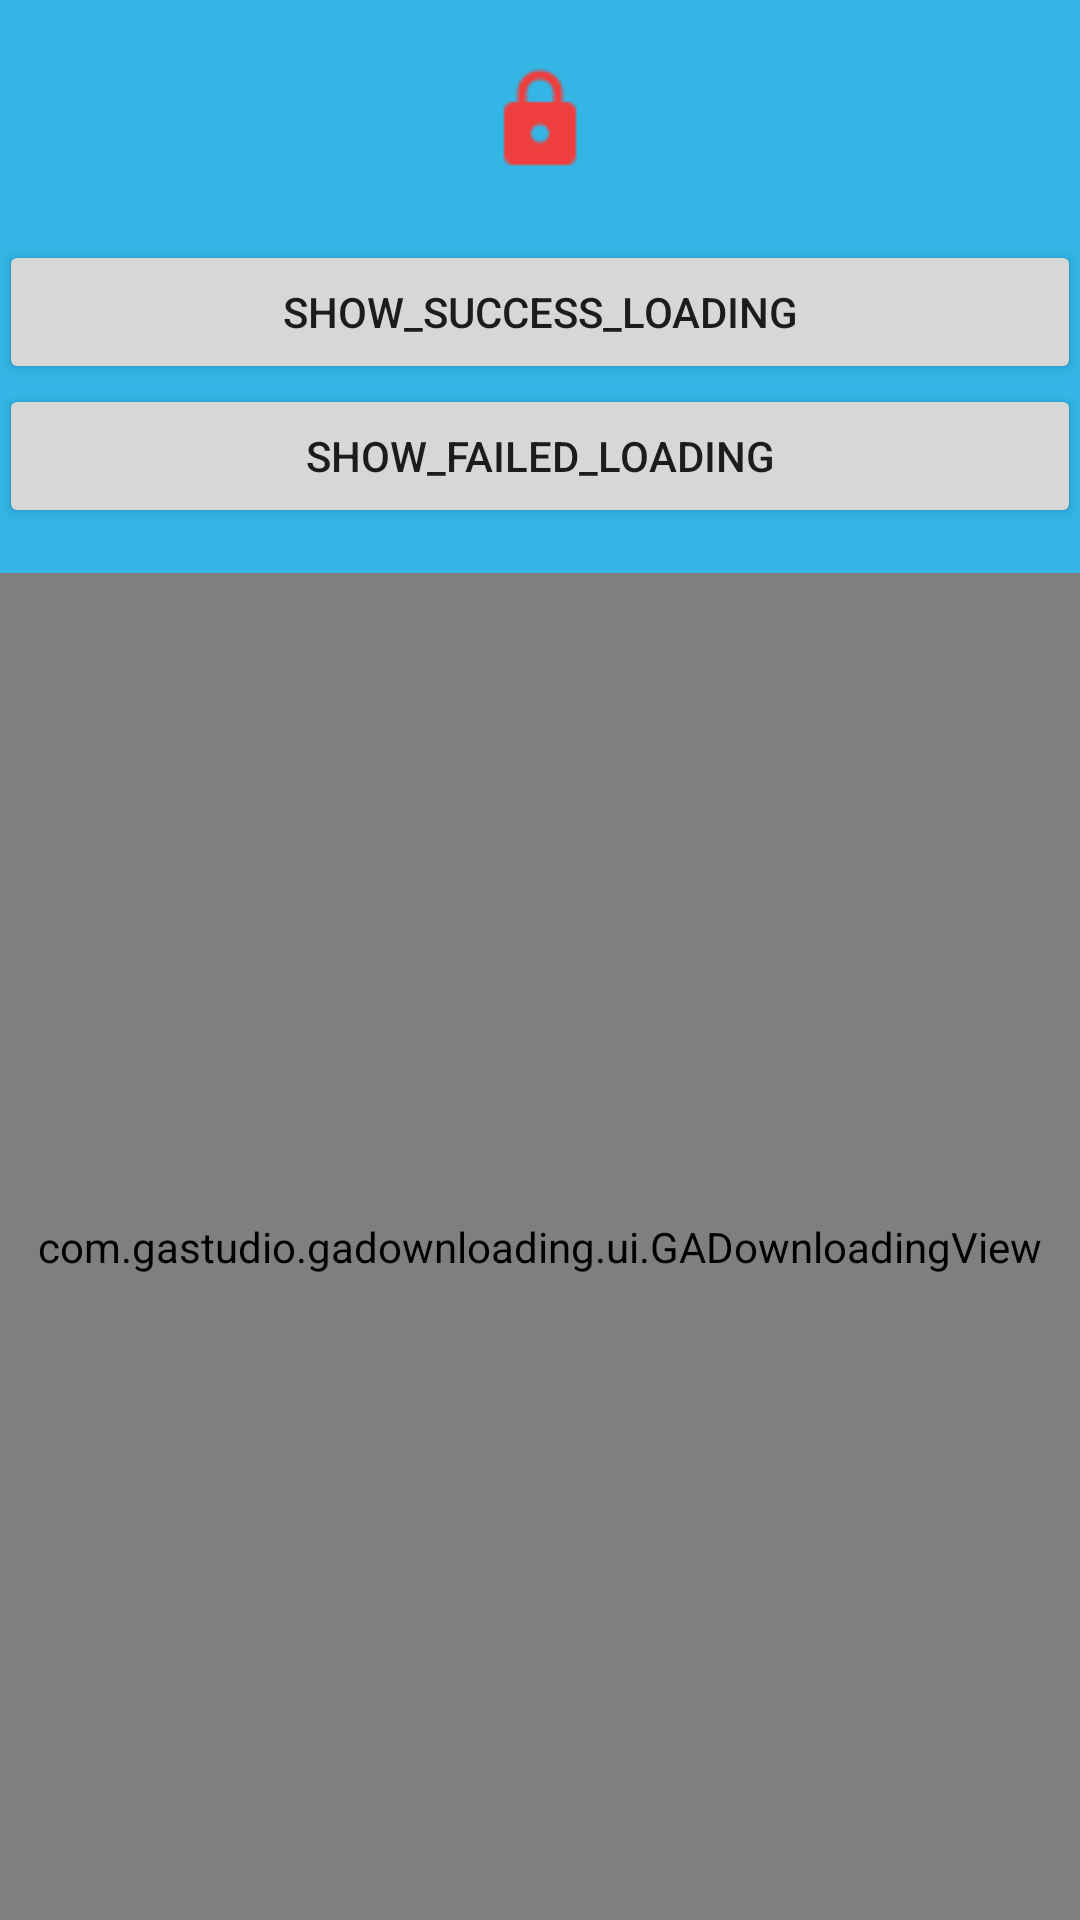

Locate icon controls on the screen. Image size 1080px x 1920px, boxes as (x1, y1, x2, y2).
lock: (503, 68, 577, 166)
